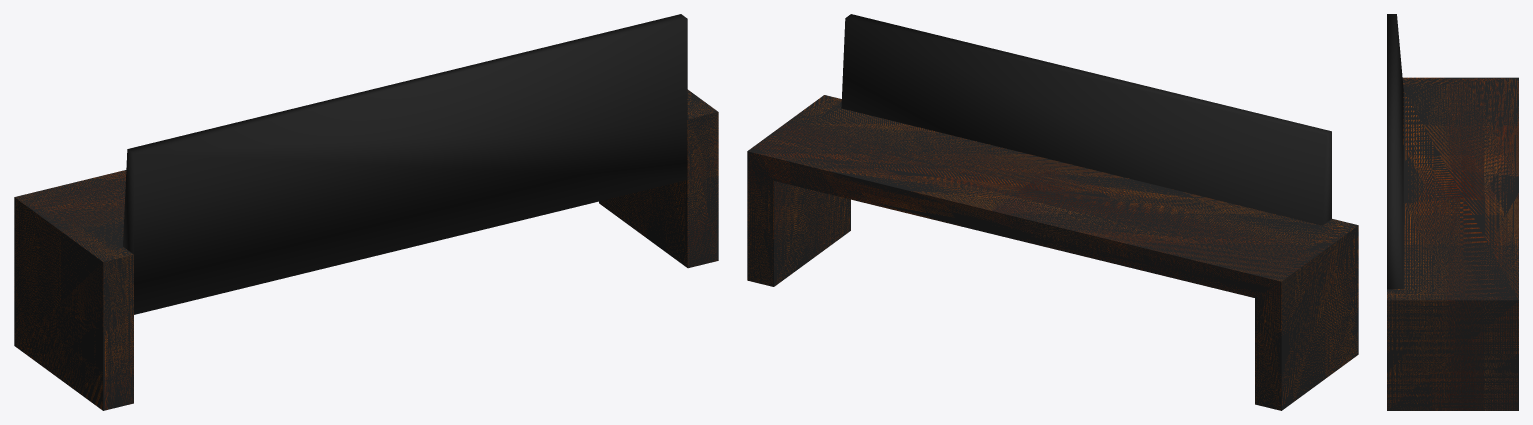
3 views of the same model, side by side, from view 1: azimuth 30°, elevation 25°; view 2: azimuth 150°, elevation 25°; view 3: azimuth 270°, elevation 25° (orthographic). The views are drawn at different scales.
Visible parts, largest first — view 1: mesh1_mesh1-geometry, mesh4_mesh4-geometry; view 2: mesh4_mesh4-geometry, mesh1_mesh1-geometry; view 3: mesh4_mesh4-geometry, mesh1_mesh1-geometry.
Boxes of the visible parts, bbox=[...] form: mesh1_mesh1-geometry: bbox=[123, 14, 687, 314]; mesh4_mesh4-geometry: bbox=[14, 89, 718, 410]; mesh4_mesh4-geometry: bbox=[747, 95, 1358, 410]; mesh1_mesh1-geometry: bbox=[841, 14, 1331, 225]; mesh4_mesh4-geometry: bbox=[1387, 77, 1518, 410]; mesh1_mesh1-geometry: bbox=[1387, 14, 1403, 289].
Bounding box in the file's own units: 0.9081 × 0.3518 × 0.227.
